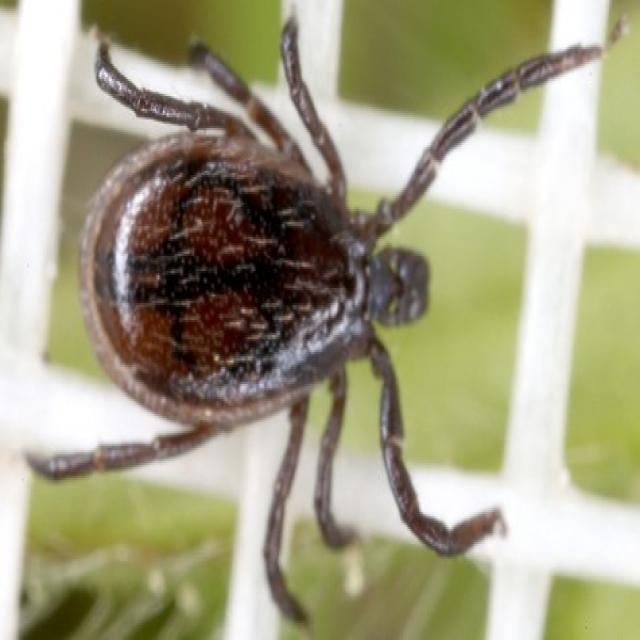Ixodes Ricinus-M: (26, 6, 609, 629)
